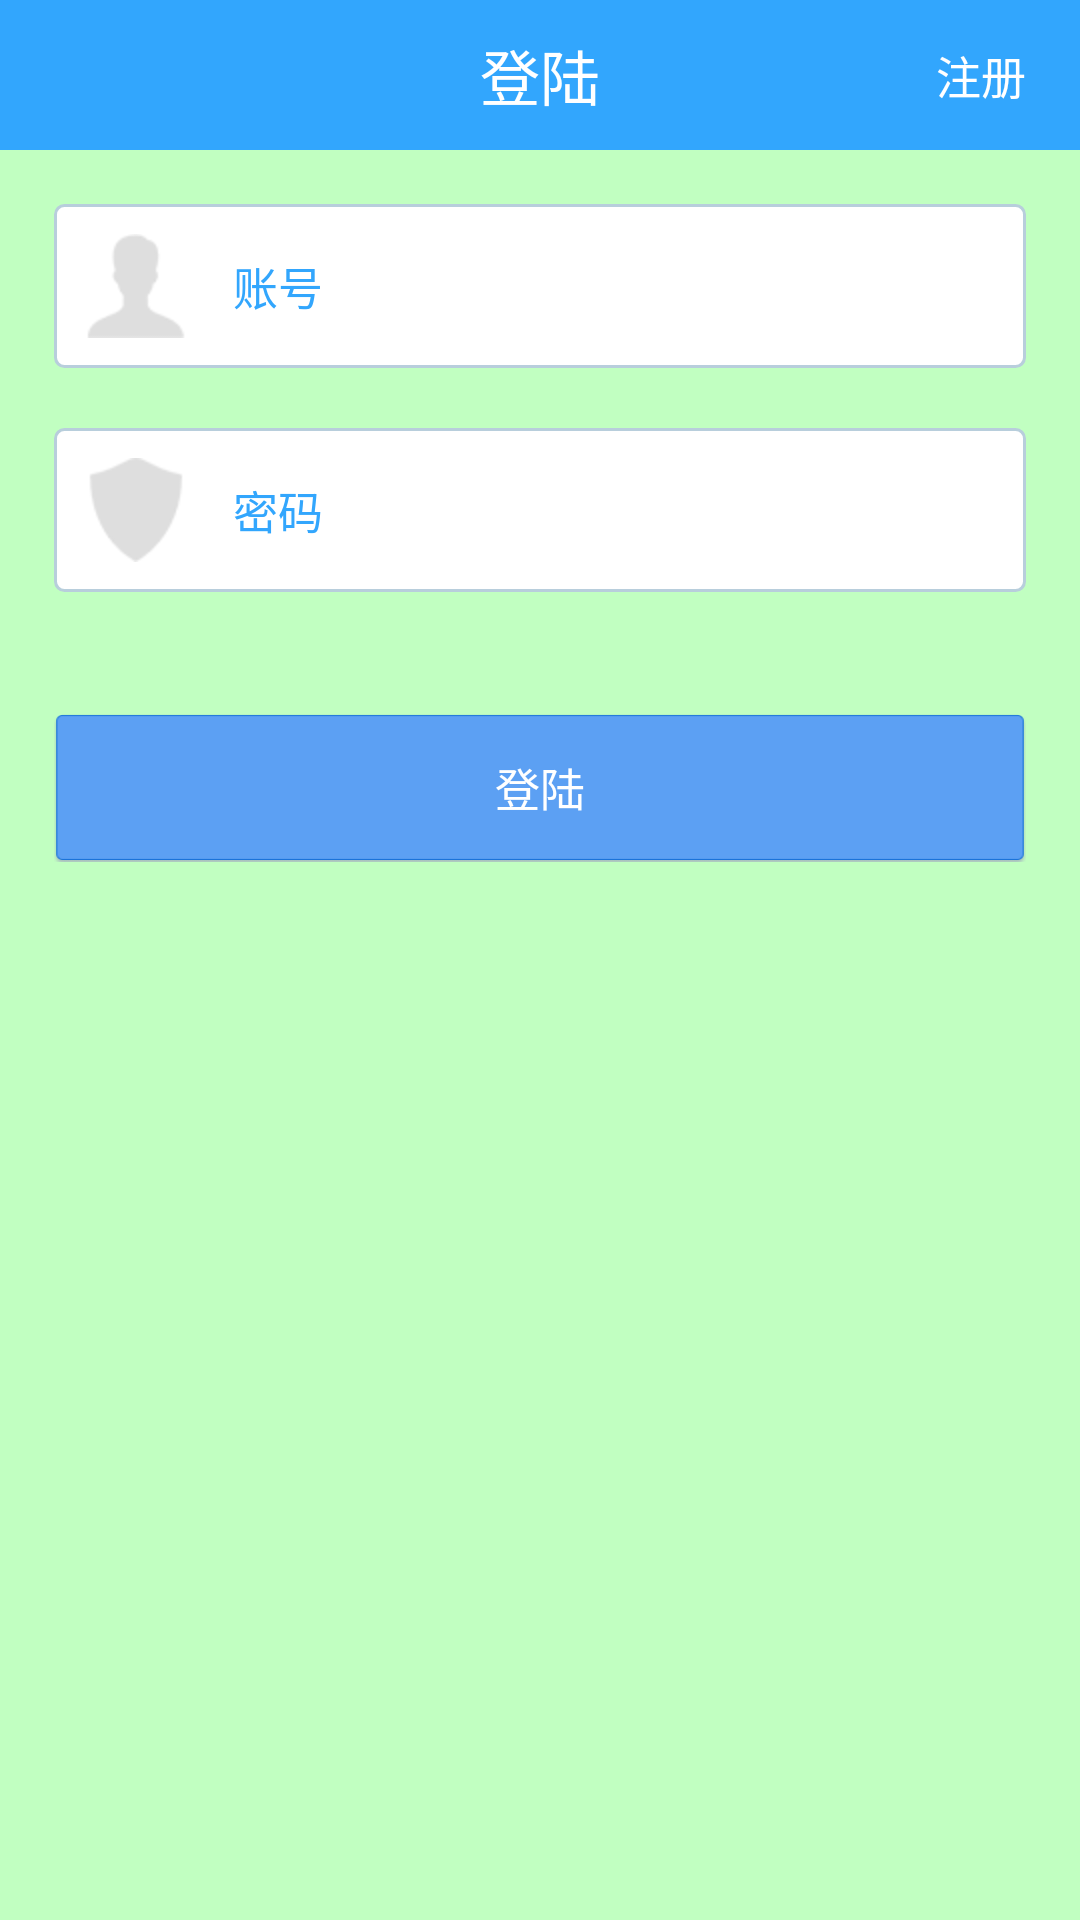

Where to tap for icons on this 1080px×1920px app screen, as (x,y):
login name: (136,287)
login pass: (136,509)
